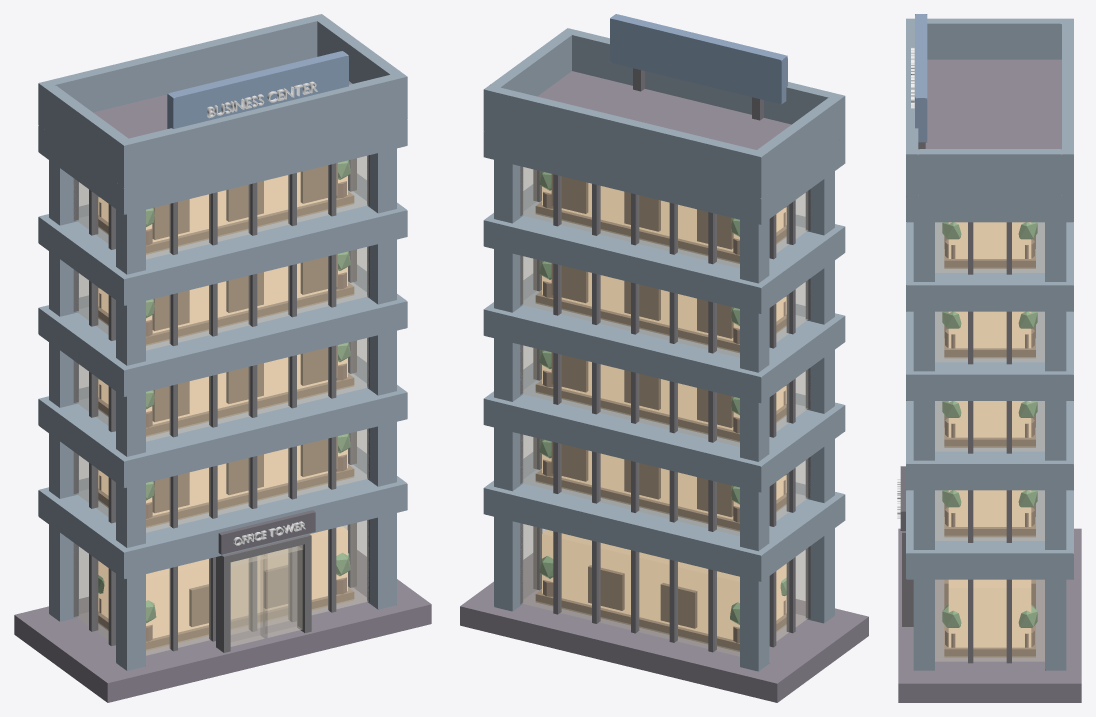
The model's file is 30-business-center-tower.glb.
The picture shows the model from 3 angles, left to right: view 1: azimuth 30°, elevation 25°; view 2: azimuth 150°, elevation 25°; view 3: azimuth 270°, elevation 25°; orthographic projection. The views are drawn at different scales.
Visible parts, largest first — view 1: Base, Slab2, Slab3, Slab1, SlabGF, ParapetF, GF_Glass, ParapetB, B1_Glass, B3_Glass, B4_Glass, B2_Glass (+44 smaller); view 2: Base, GF_Glass, Slab1, Slab2, SlabGF, Slab3, ParapetB, B3_Glass, B1_Glass, B2_Glass, B4_Glass, SlabRoof (+38 smaller); view 3: RoofDeck, Base, Slab1, Slab3, SlabGF, Slab2, GF_Glass, Column.002, Column.003, ParapetR, ParapetL, B3_Glass (+31 smaller).
Boxes of the visible parts, <box> form: Base: <box>14,550,431,702</box>; Slab2: <box>38,264,407,396</box>; Slab3: <box>38,173,407,305</box>; Slab1: <box>38,355,407,488</box>; SlabGF: <box>38,447,407,579</box>; ParapetF: <box>118,72,407,187</box>; GF_Glass: <box>76,520,368,655</box>; ParapetB: <box>38,14,327,129</box>; B1_Glass: <box>76,429,368,532</box>; B3_Glass: <box>76,247,368,350</box>; B4_Glass: <box>76,156,368,259</box>; B2_Glass: <box>76,338,368,441</box>; Base: <box>460,553,868,702</box>; GF_Glass: <box>522,524,807,656</box>; Slab1: <box>483,363,845,492</box>; Slab2: <box>483,273,845,403</box>; SlabGF: <box>483,452,845,581</box>; Slab3: <box>483,184,845,313</box>; ParapetB: <box>483,85,767,198</box>; B3_Glass: <box>522,256,807,357</box>; B1_Glass: <box>522,434,807,536</box>; B2_Glass: <box>522,345,807,446</box>; B4_Glass: <box>522,167,807,268</box>; SlabRoof: <box>483,131,845,224</box>; RoofDeck: <box>925,59,1061,149</box>; Base: <box>898,528,1081,702</box>; Slab1: <box>906,401,1073,490</box>; Slab3: <box>906,222,1073,311</box>; SlabGF: <box>906,490,1073,579</box>; Slab2: <box>906,311,1073,400</box>; GF_Glass: <box>935,579,1044,661</box>; Column.002: <box>913,222,934,670</box>; Column.003: <box>1045,222,1066,670</box>; ParapetR: <box>918,149,1061,195</box>; ParapetL: <box>927,18,1061,59</box>; B3_Glass: <box>935,311,1044,362</box>.
Size of the model in its own units: 2.4 by 4.11 by 1.21.
